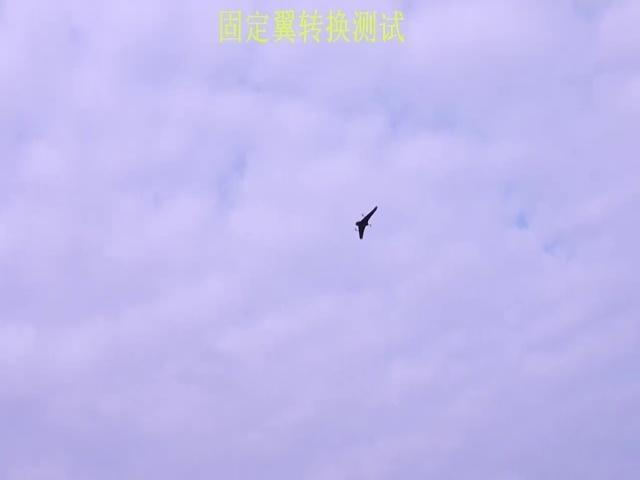Airplane: (354, 206, 378, 240)
